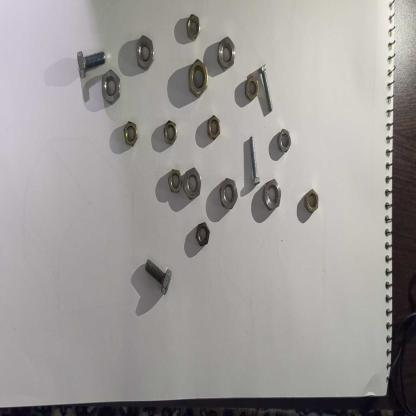Bolts: (142, 252, 174, 304), (76, 46, 109, 81), (246, 134, 263, 193), (256, 62, 274, 113)
NUTS: (131, 30, 156, 73), (187, 56, 210, 100), (218, 174, 240, 220), (98, 69, 122, 109), (262, 176, 282, 216), (182, 166, 204, 200), (218, 35, 238, 70), (304, 188, 322, 218), (195, 219, 212, 250), (162, 118, 180, 147), (277, 126, 294, 156), (206, 113, 223, 142), (167, 166, 183, 196), (186, 12, 200, 42), (123, 121, 139, 146), (245, 76, 260, 101)
